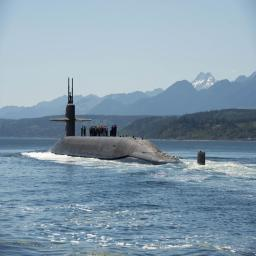submarine: (49, 76, 210, 172)
